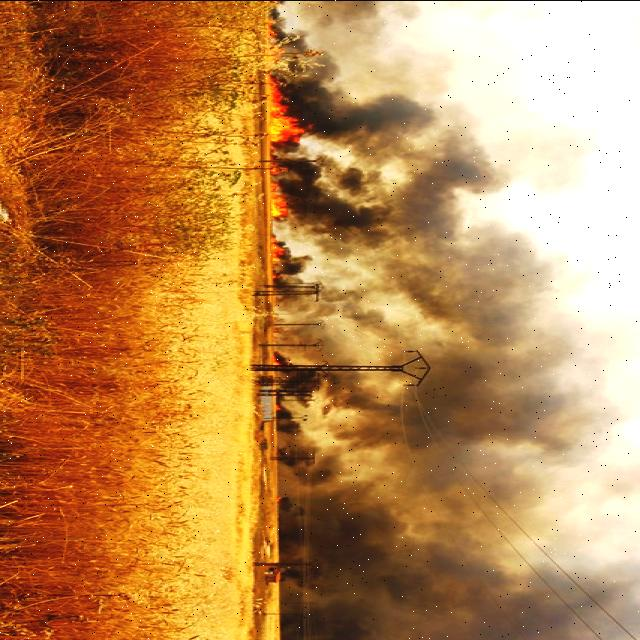api: (262, 74, 296, 152), (264, 172, 294, 222), (267, 239, 283, 265)
asap: (436, 77, 640, 640), (297, 86, 442, 352), (286, 390, 433, 640), (287, 2, 513, 80)
